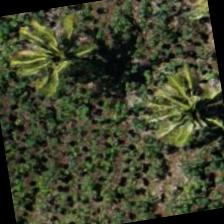Kelapa_Sawit: (13, 9, 116, 112), (147, 67, 223, 168)
